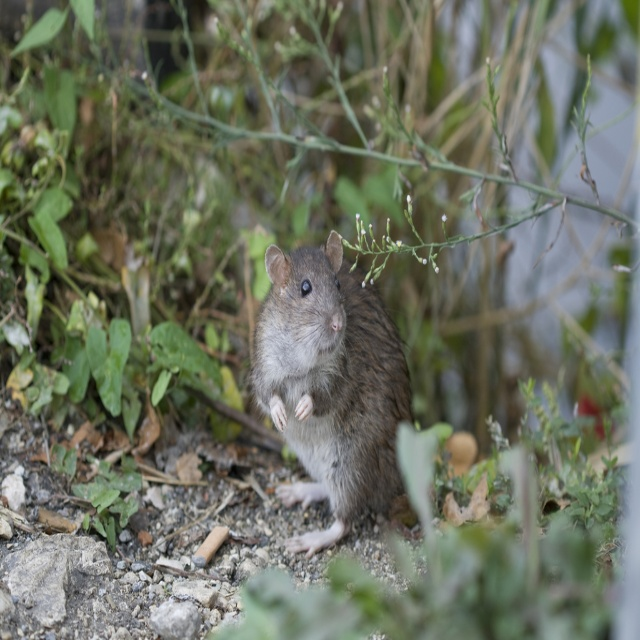Mouse: (238, 197, 413, 559)
